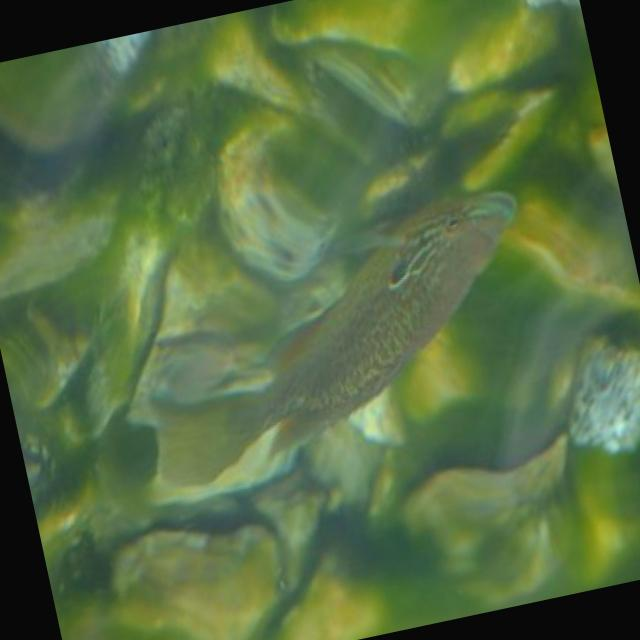Gunes Levregi: (115, 180, 560, 498)
